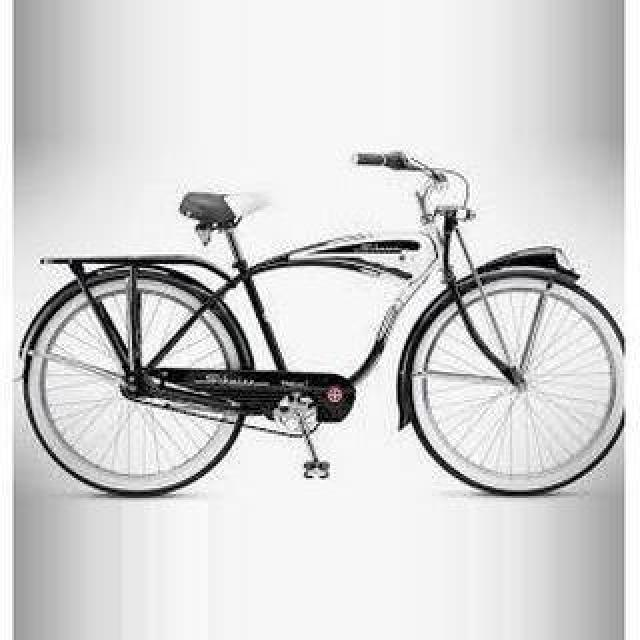Person: (15, 149, 627, 497)
